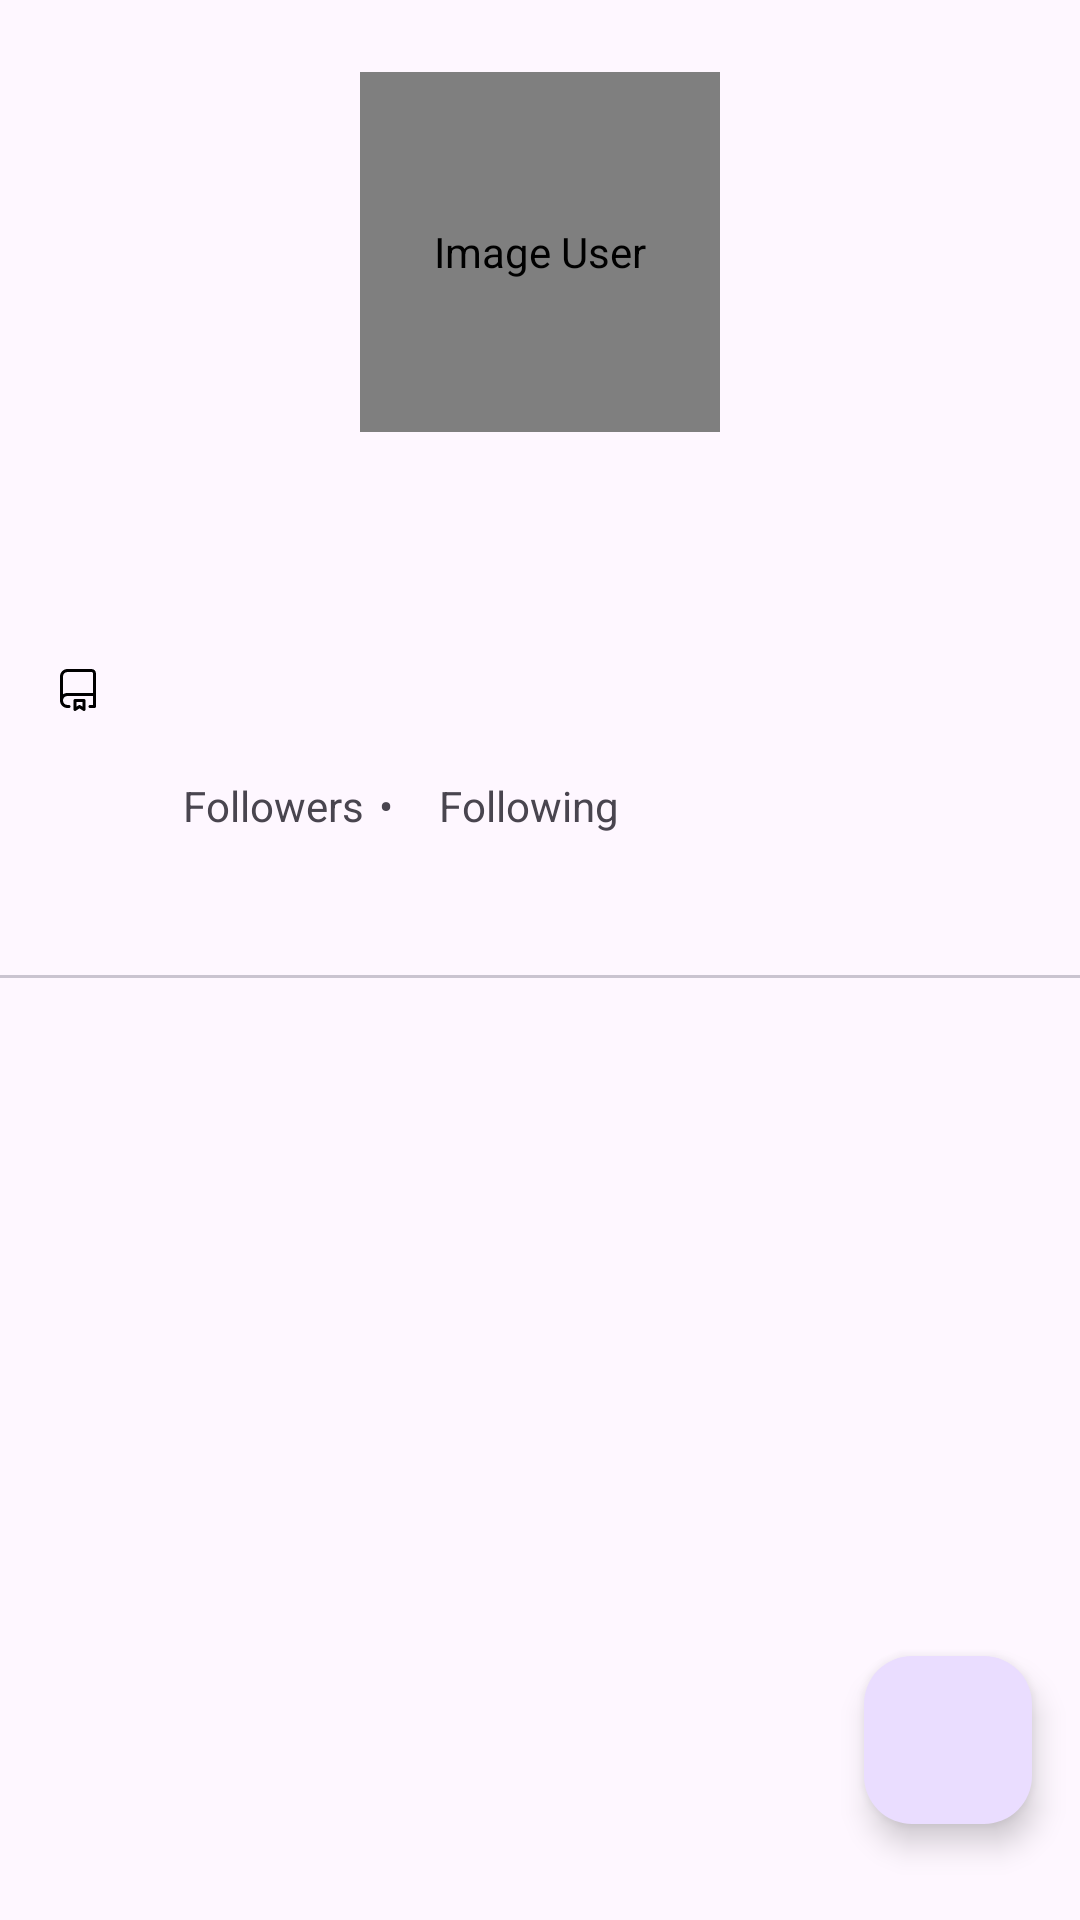

Icon click points for this 1080 × 1920 phone screenshot, format (x,y):
repo: (78,690)
